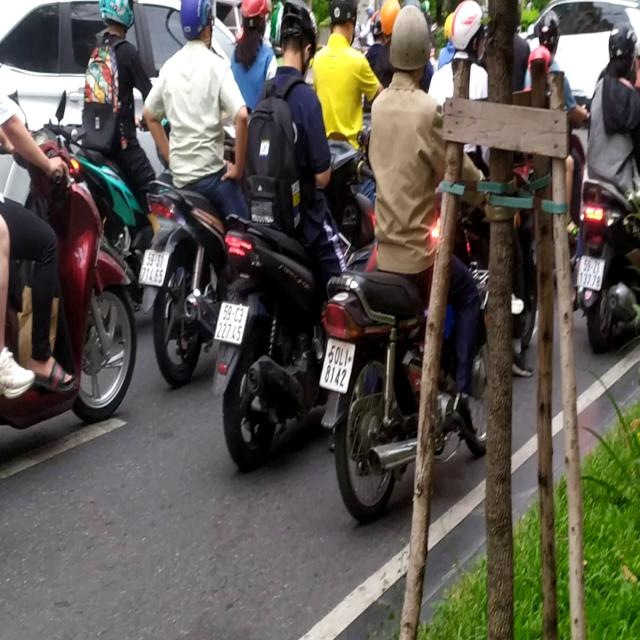bien_trang: (214, 296, 251, 358), (323, 336, 354, 396)
